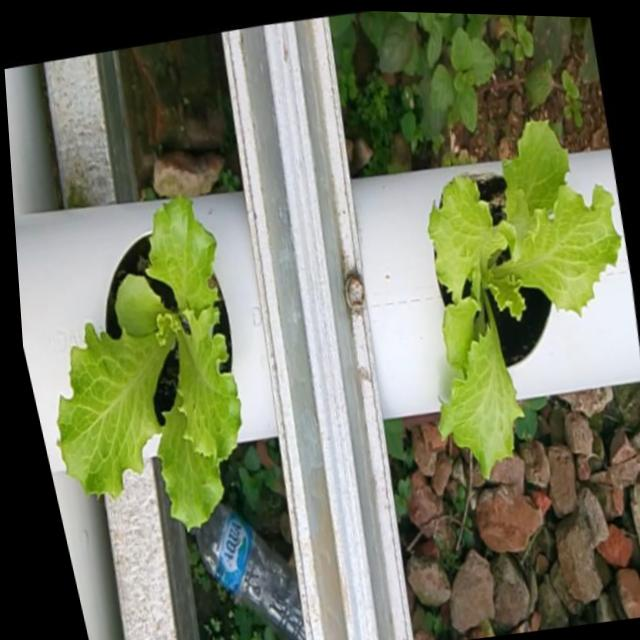Baby: (430, 116, 622, 473), (61, 189, 245, 527)
